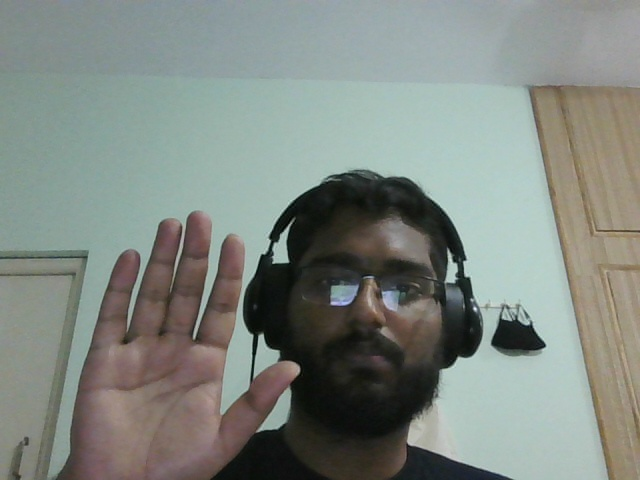Hello: (70, 187, 300, 479)
